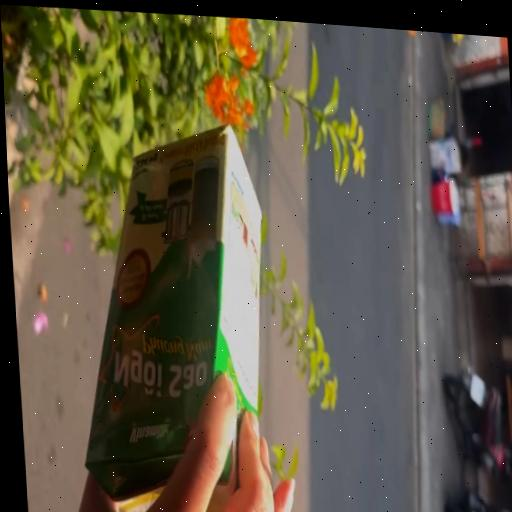ly_giay: (85, 128, 260, 512)
